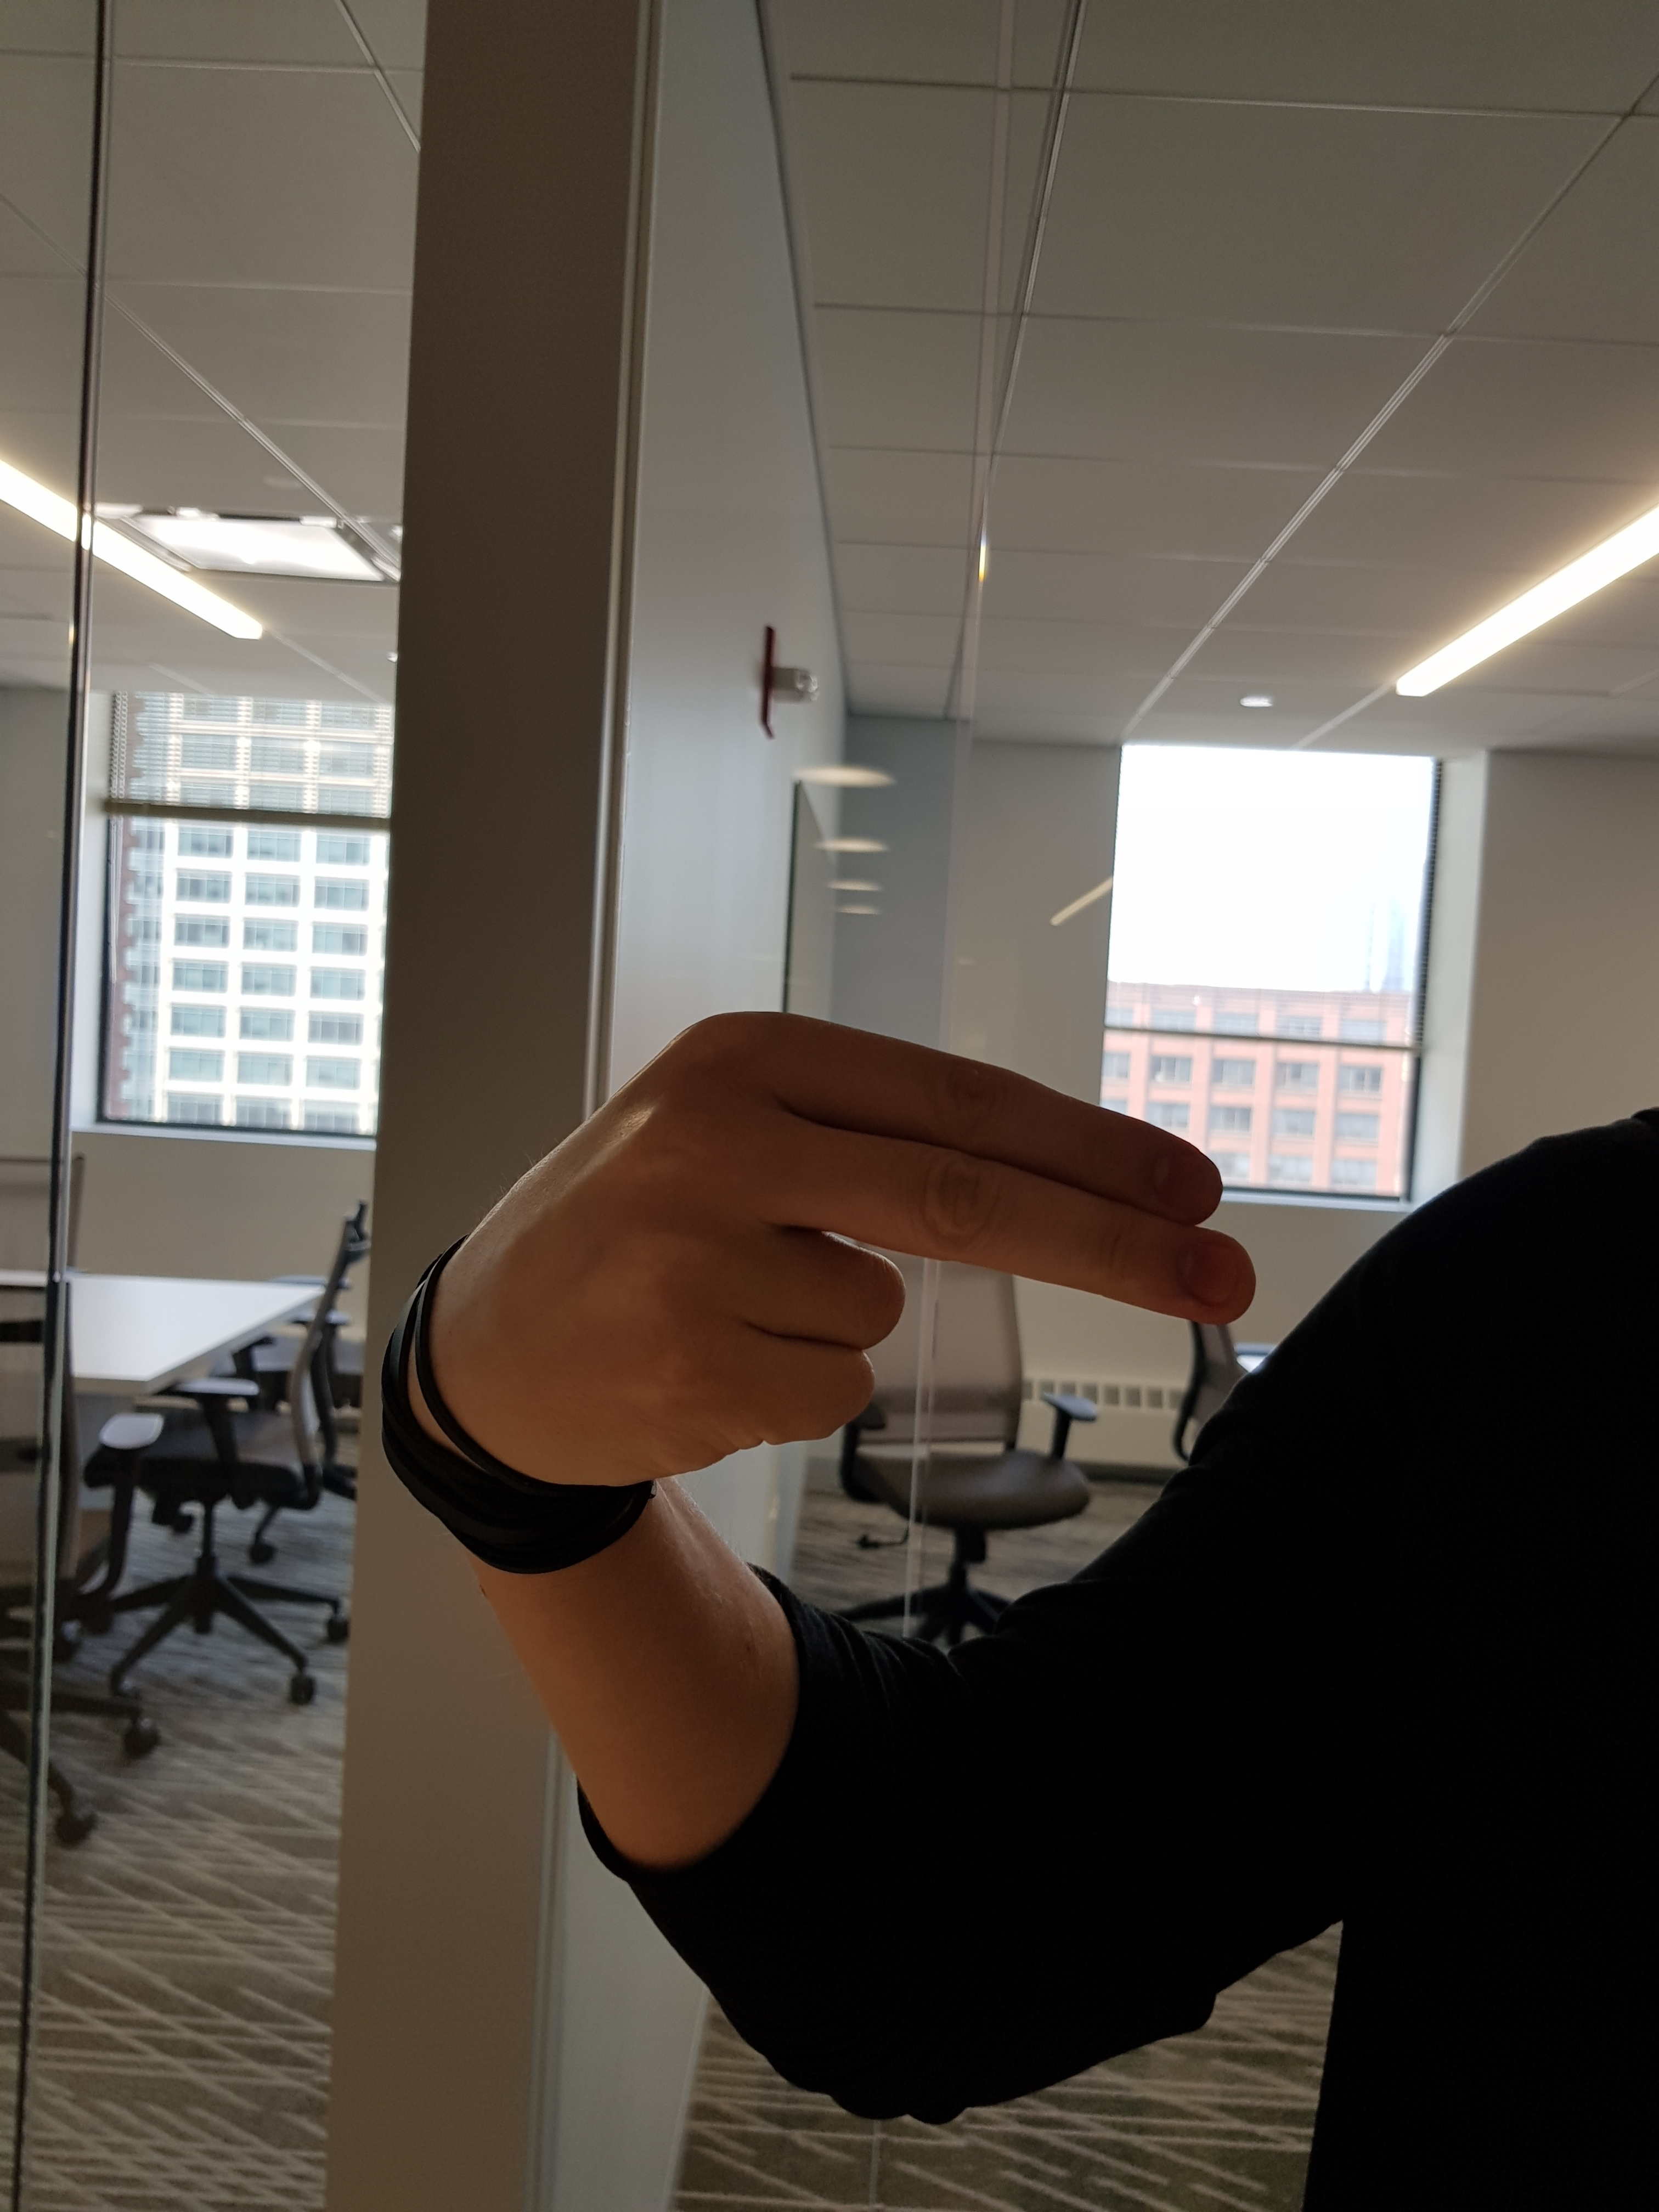h: (335, 988, 1283, 1564)
